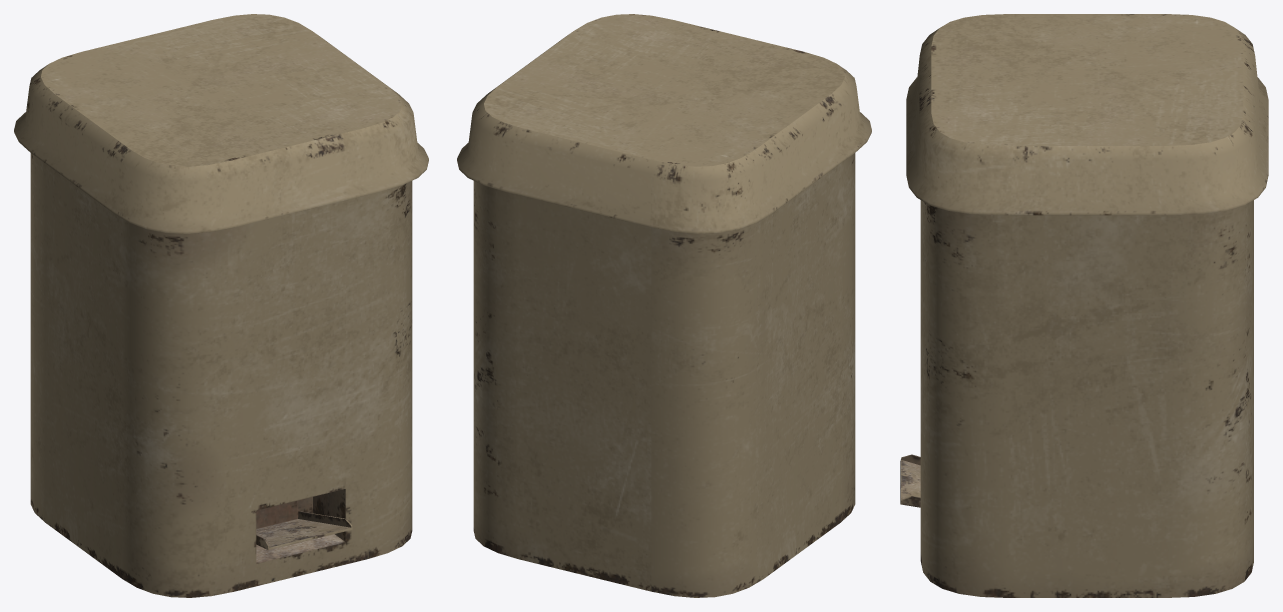
Rendered from BathroomTrashcan.fbx.
3 views of the same model, side by side, from view 1: azimuth 30°, elevation 25°; view 2: azimuth 150°, elevation 25°; view 3: azimuth 270°, elevation 25° (orthographic). The views are drawn at different scales.
Parts seen in each view (by area): view 1: BathroomTrashcan; view 2: BathroomTrashcan; view 3: BathroomTrashcan.
Part boxes in pixels (x1,y1,x2,y2): BathroomTrashcan: (14,14,428,597); BathroomTrashcan: (457,14,871,597); BathroomTrashcan: (900,14,1268,597).
Size of the model in its own units: 29.34 by 40 by 29.81.
